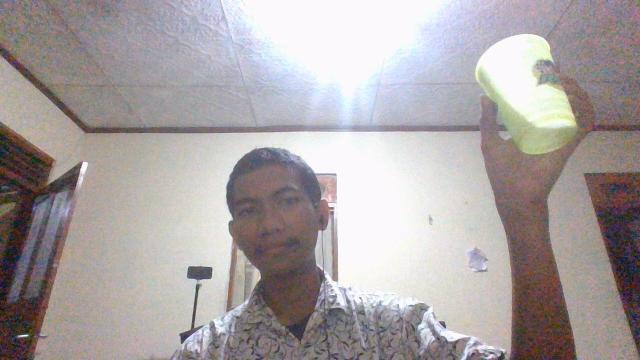botol-hijau: (474, 32, 580, 156)
